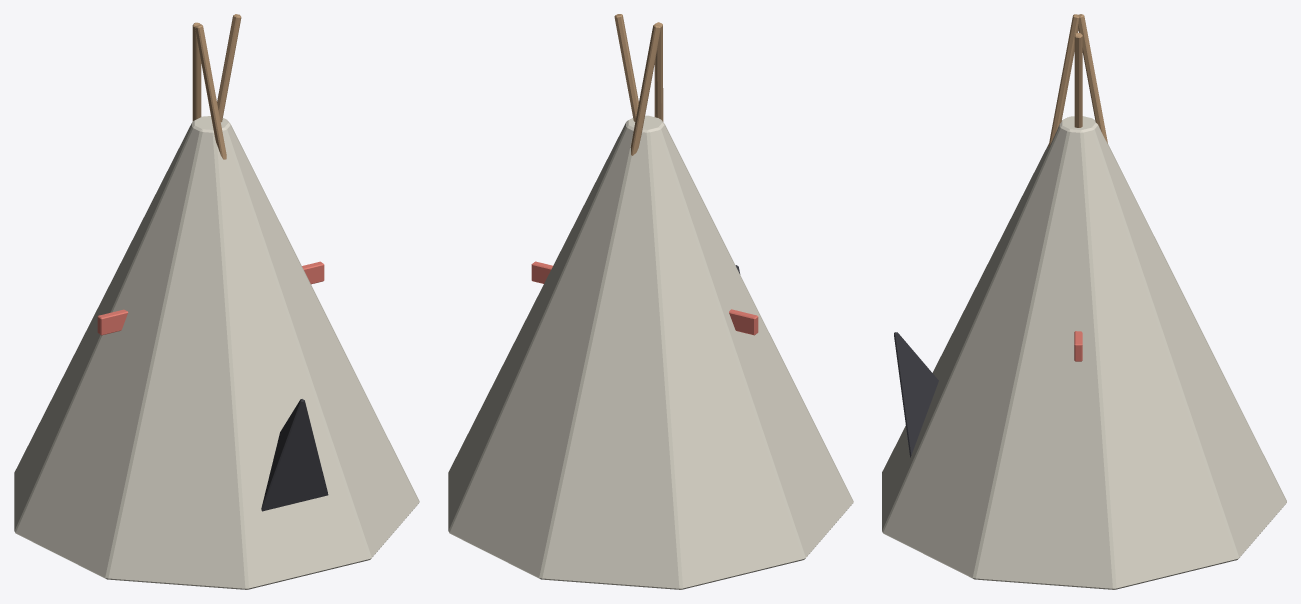
3 views of the same model, side by side, from view 1: azimuth 30°, elevation 25°; view 2: azimuth 150°, elevation 25°; view 3: azimuth 270°, elevation 25° (orthographic).
Visible parts, largest first — view 1: Tent; view 2: Tent; view 3: Tent.
Boxes of the visible parts, box(x1,y1,x2,y2) form: Tent: box(14, 14, 419, 589); Tent: box(448, 14, 853, 589); Tent: box(882, 14, 1286, 589).
Bounding box in the file's own units: 2.55 × 3.33 × 2.51.
